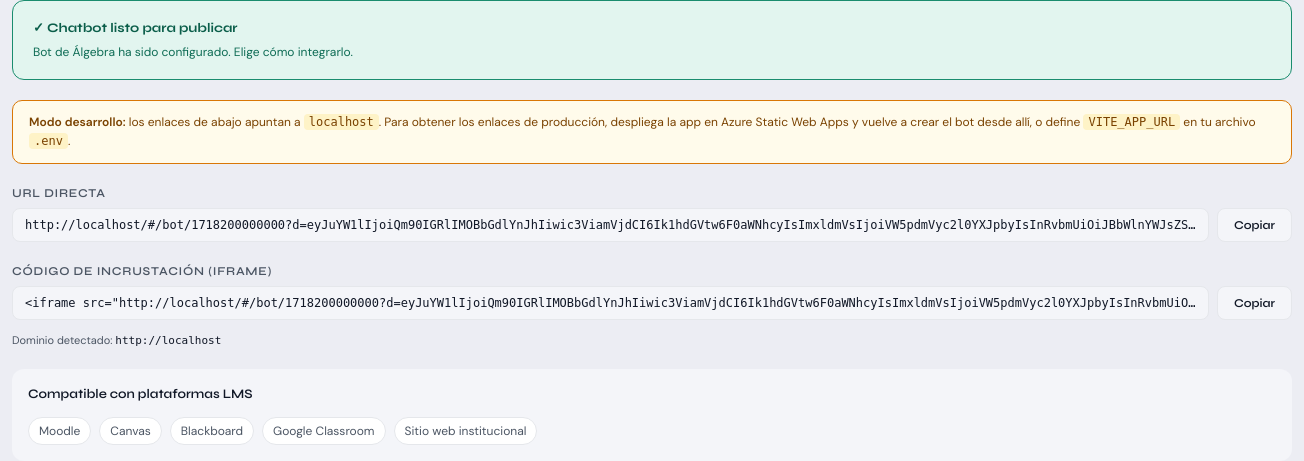
DeployPanel — botones de copiar › muestra "Copiado ✓" al hacer clic en el botón de copiar URL
Click the 1st button "Copiar" at point(1254, 225), box [1217,208,1292,242]
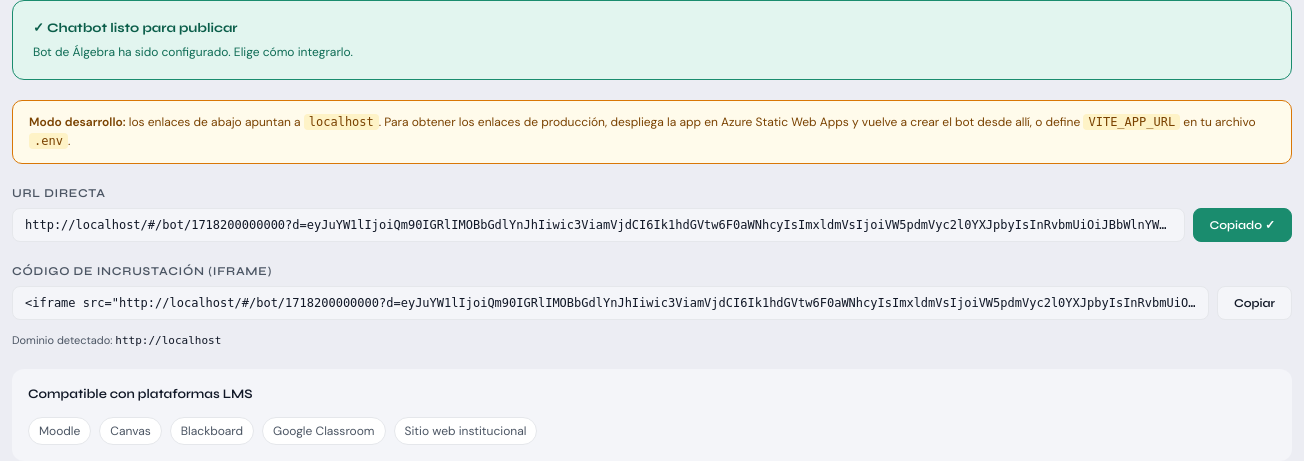
Expected: the button "Copiado ✓" is shown, [1192,208,1292,242]
